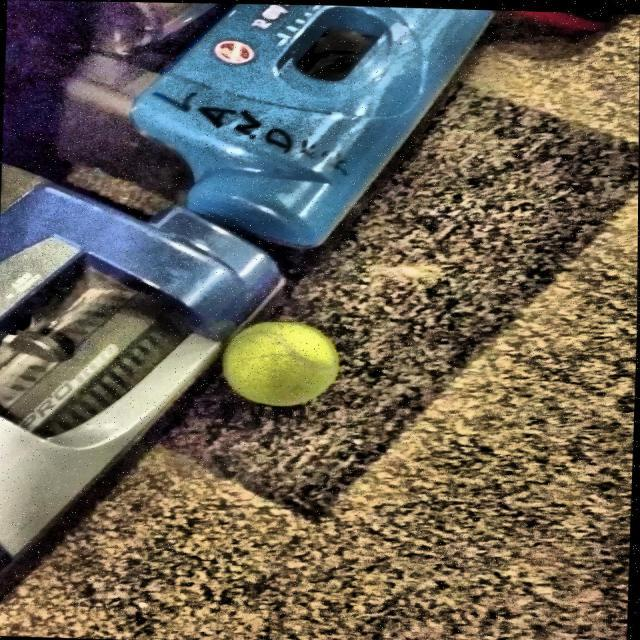tennis-ball: (218, 320, 348, 415)
